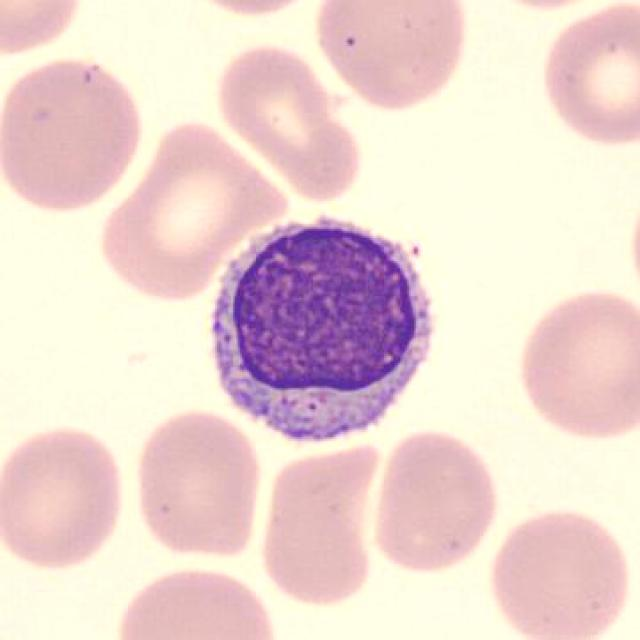RBC: (92, 116, 294, 305), (210, 39, 366, 201), (0, 53, 149, 217), (252, 437, 384, 619), (128, 404, 268, 562), (508, 282, 638, 446), (484, 502, 636, 640), (0, 419, 132, 576), (366, 425, 503, 576), (311, 0, 475, 113), (534, 2, 638, 153), (106, 561, 282, 638), (0, 0, 92, 56), (446, 0, 633, 18), (174, 0, 327, 21)
